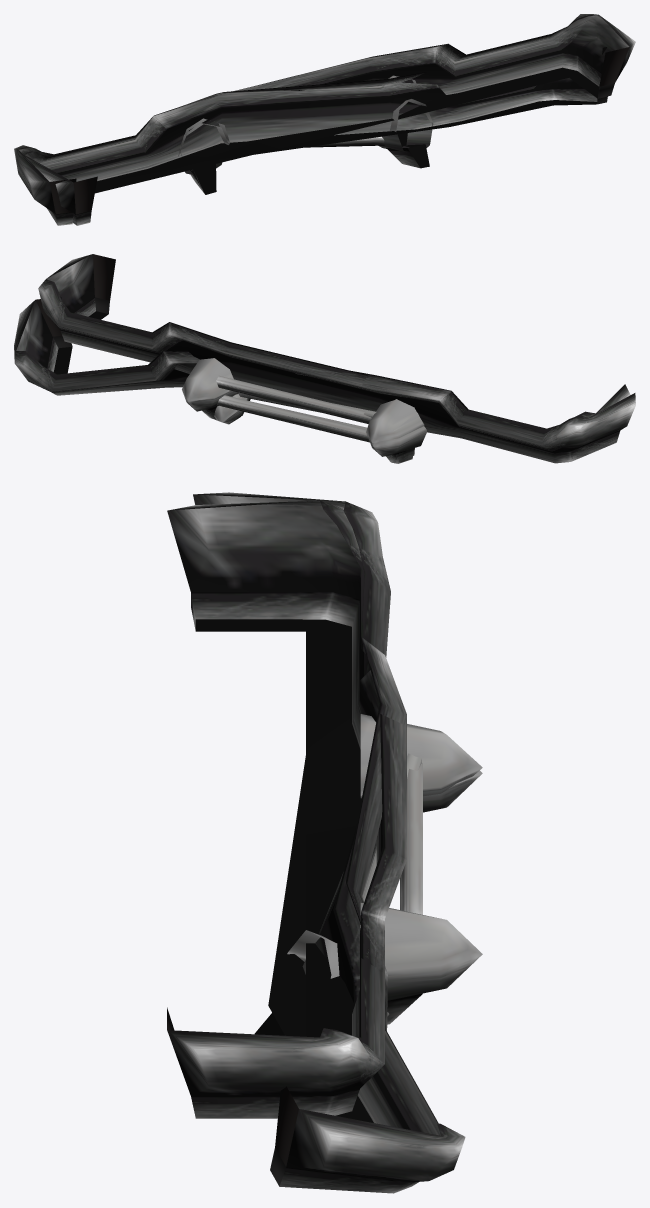
Rendered from fbmp_lr_t2.glb.
3 renders of one model, top to bottom at view 1: azimuth 30°, elevation 25°; view 2: azimuth 150°, elevation 25°; view 3: azimuth 270°, elevation 25°, orthographic. The views are drawn at different scales.
Visible parts, largest first — view 1: fbmp_lr_t2_dam, fbmp_lr_t2; view 2: fbmp_lr_t2, fbmp_lr_t2_dam; view 3: fbmp_lr_t2, fbmp_lr_t2_dam.
Part boxes in pixels (bbox=[...]): fbmp_lr_t2_dam: bbox=[14, 47, 607, 225]; fbmp_lr_t2: bbox=[21, 14, 635, 225]; fbmp_lr_t2: bbox=[38, 254, 630, 463]; fbmp_lr_t2_dam: bbox=[14, 297, 635, 463]; fbmp_lr_t2: bbox=[167, 500, 482, 1118]; fbmp_lr_t2_dam: bbox=[193, 492, 482, 1193].
Bounding box in the file's own units: 2.51 × 0.3815 × 0.5807.
2 materials, 2 textured.
